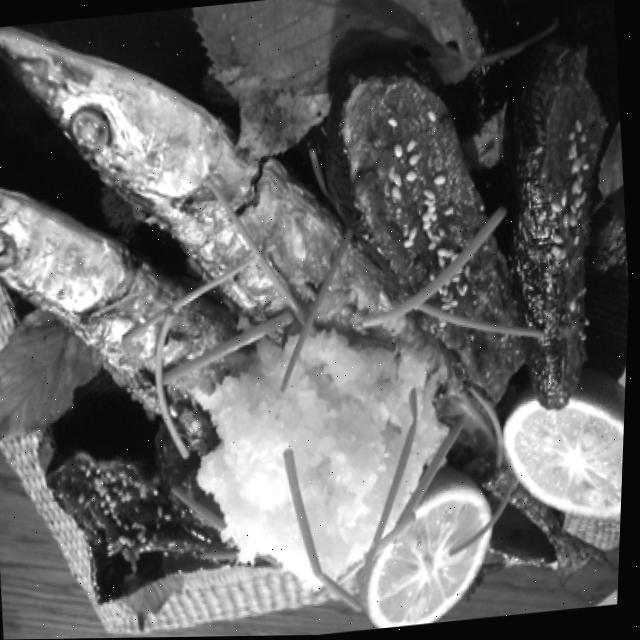鸡蛋料理: (302, 0, 640, 496)
